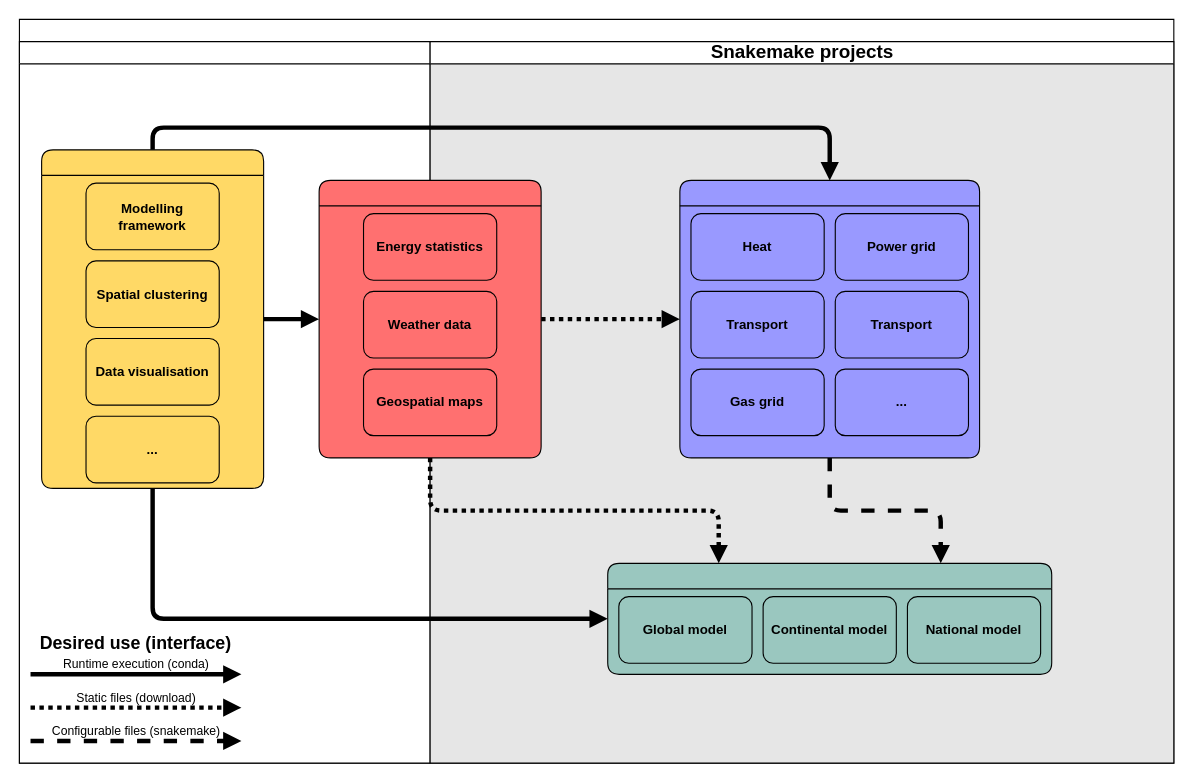
Some shapes in this 1193 by 783 pixel diagram are drawn without their labels. The box of each missing label's shape, as (x1, y1, x2, y2) in pixels:
Data modules: (679, 179, 980, 458)
Dataset tools: (318, 179, 541, 458)
Model builders: (607, 562, 1052, 674)
Python projects: (18, 41, 430, 763)
Software tools: (41, 149, 264, 488)
